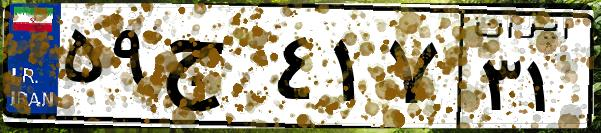1: (330, 28, 385, 110), (525, 38, 570, 115)
3: (475, 38, 525, 113)
4: (270, 28, 330, 110)
5: (57, 26, 110, 100)
7: (385, 28, 445, 110)
9: (110, 28, 158, 98)
ج: (158, 20, 270, 120)
